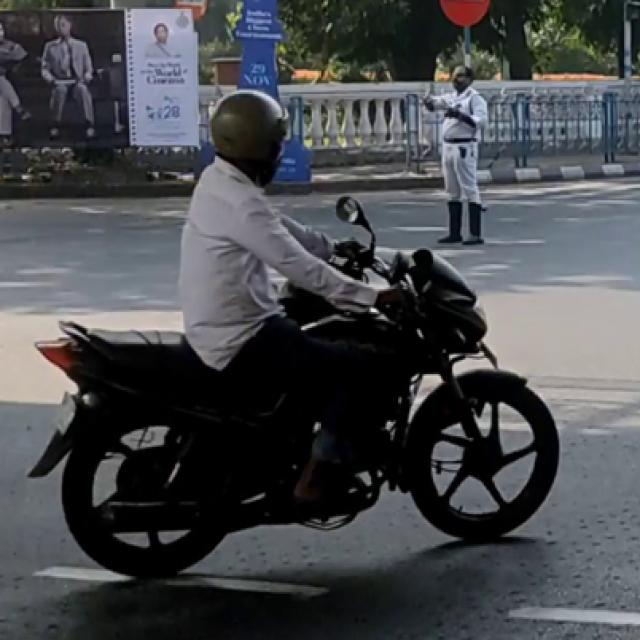Motorized2wheleer: (40, 257, 562, 585)
